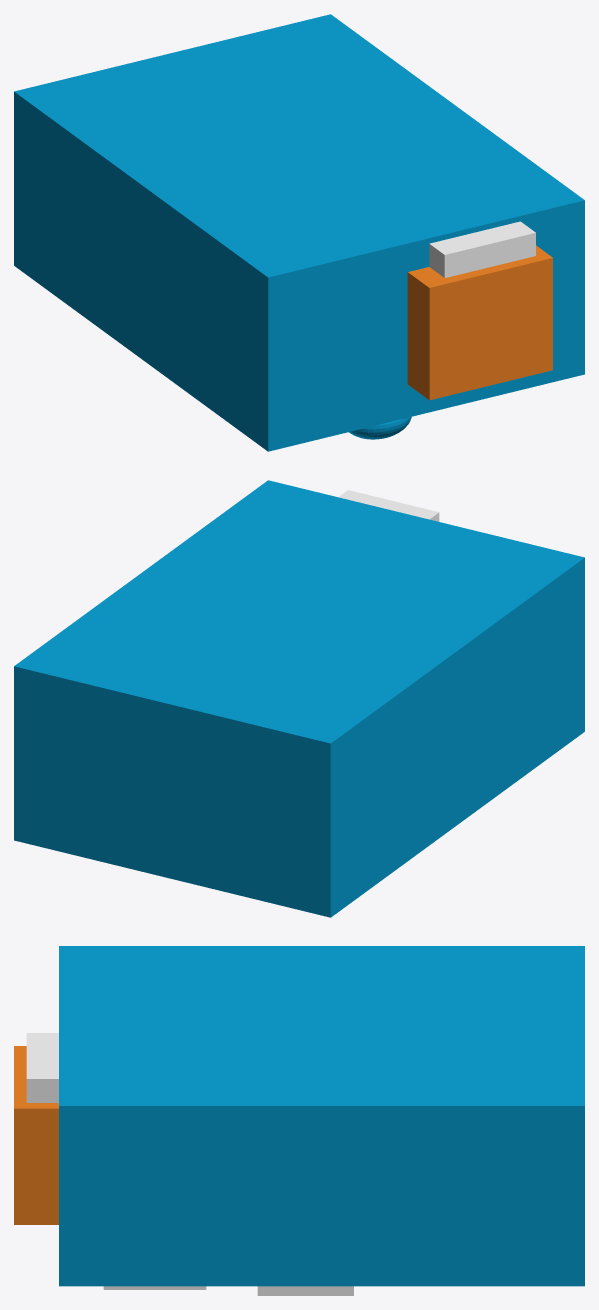
File: tinker.obj
3 renders of one model, top to bottom at view 1: azimuth 30°, elevation 25°; view 2: azimuth 150°, elevation 25°; view 3: azimuth 270°, elevation 25°, orthographic. The views are drawn at different scales.
Visible parts, largest first — view 1: group_0_40919, group_0_16089887, group_0_16448250; view 2: group_0_40919, group_0_16448250; view 3: group_0_40919, group_0_16089887, group_0_16448250.
Part boxes in pixels (left/top/right/bottom): group_0_40919: left=14, top=14, right=584, bottom=451; group_0_16089887: left=407, top=245, right=552, bottom=400; group_0_16448250: left=429, top=221, right=535, bottom=277; group_0_40919: left=14, top=480, right=584, bottom=917; group_0_16448250: left=338, top=490, right=439, bottom=521; group_0_40919: left=59, top=946, right=584, bottom=1286; group_0_16089887: left=14, top=1046, right=58, bottom=1224; group_0_16448250: left=26, top=1033, right=353, bottom=1295.
Bounding box in the file's own units: 59 × 41 × 89.
